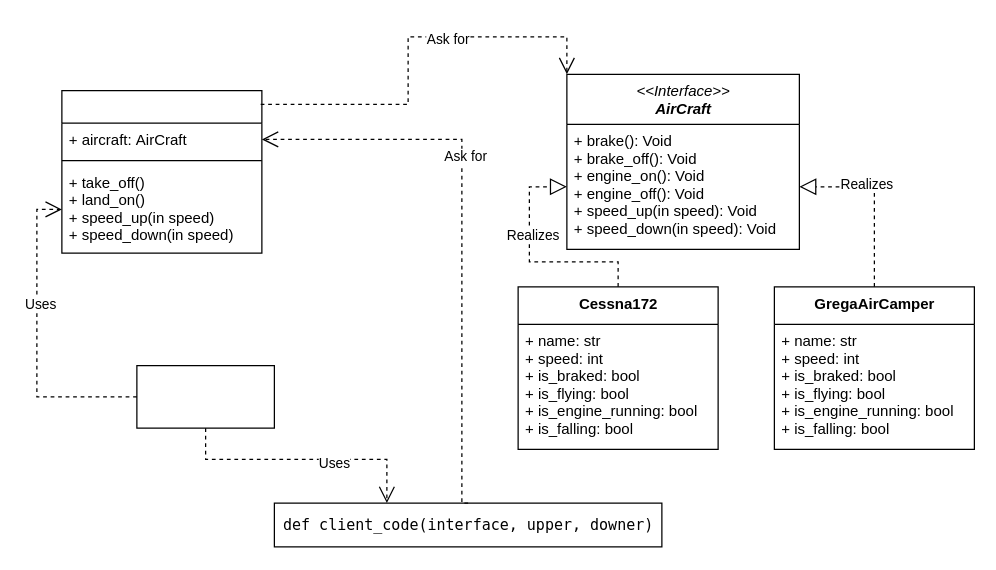
The diagram is 996 pixels wide and 570 high, and some of its shapes have lost their labels. Here are the shapes that lost their labels. From the top down, the box of each, then its label:
(61, 89, 262, 253): FlightSimulator
(136, 364, 274, 428): Client
